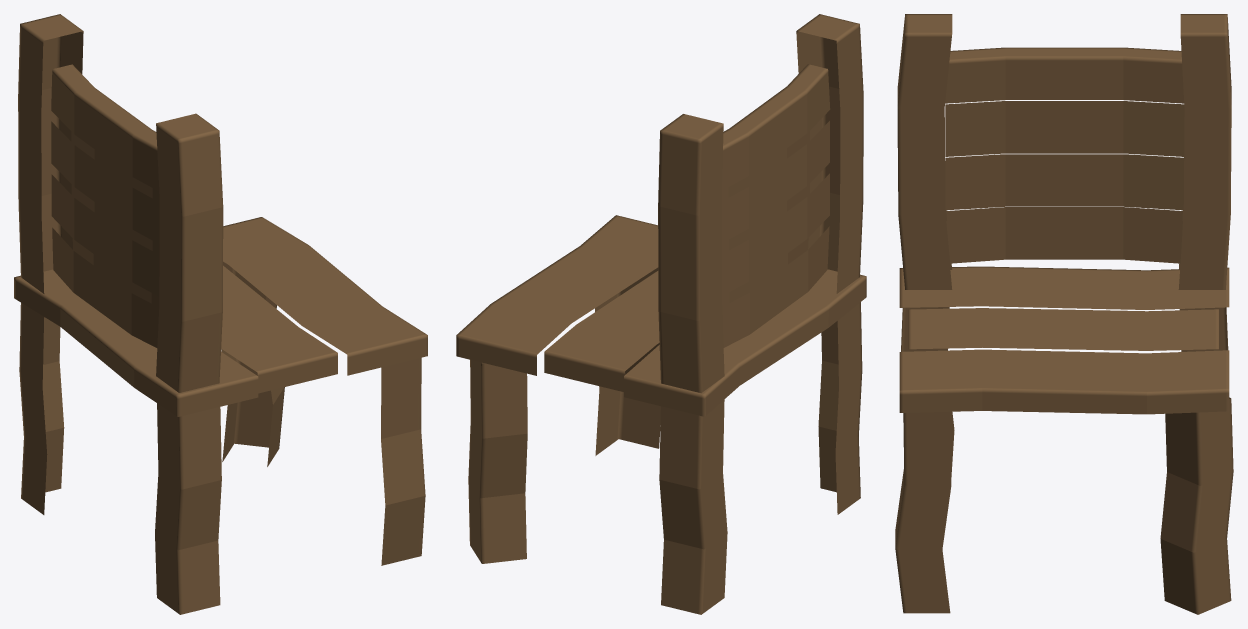
The model's file is Chair.fbx.
3 renders of one model, left to right at view 1: azimuth 30°, elevation 25°; view 2: azimuth 150°, elevation 25°; view 3: azimuth 270°, elevation 25°, orthographic.
Visible parts, largest first — view 1: Wooden Chair Legs Obj, Wooden Chair Seat Obj, Wooden Chair Back Pole Obj, Wooden Chair Back Panels Obj; view 2: Wooden Chair Legs Obj, Wooden Chair Seat Obj, Wooden Chair Back Pole Obj, Wooden Chair Back Panels Obj; view 3: Wooden Chair Back Panels Obj, Wooden Chair Seat Obj, Wooden Chair Back Pole Obj, Wooden Chair Legs Obj.
Boxes of the visible parts, bbox=[...] form: Wooden Chair Legs Obj: bbox=[19, 261, 425, 614]; Wooden Chair Seat Obj: bbox=[14, 217, 427, 416]; Wooden Chair Back Pole Obj: bbox=[18, 14, 223, 392]; Wooden Chair Back Panels Obj: bbox=[51, 64, 159, 347]; Wooden Chair Legs Obj: bbox=[468, 267, 862, 614]; Wooden Chair Seat Obj: bbox=[456, 215, 866, 416]; Wooden Chair Back Pole Obj: bbox=[658, 14, 863, 393]; Wooden Chair Back Panels Obj: bbox=[721, 64, 830, 347]; Wooden Chair Back Panels Obj: bbox=[945, 47, 1184, 263]; Wooden Chair Seat Obj: bbox=[899, 266, 1229, 414]; Wooden Chair Back Pole Obj: bbox=[897, 14, 1231, 289]; Wooden Chair Legs Obj: bbox=[895, 307, 1233, 614].
Bounding box in the file's own units: 127 × 225 × 144.
